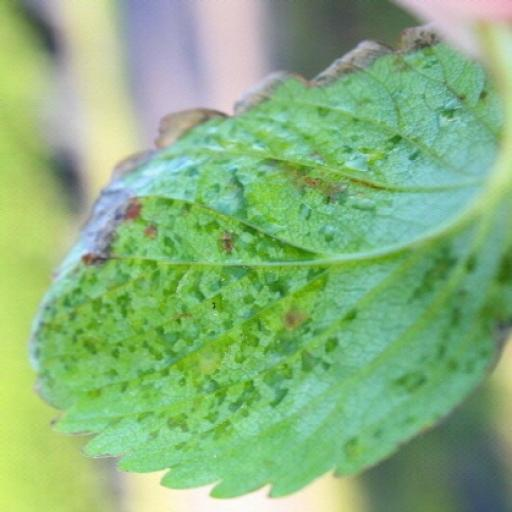Angular Leafspot: (28, 23, 511, 499)
